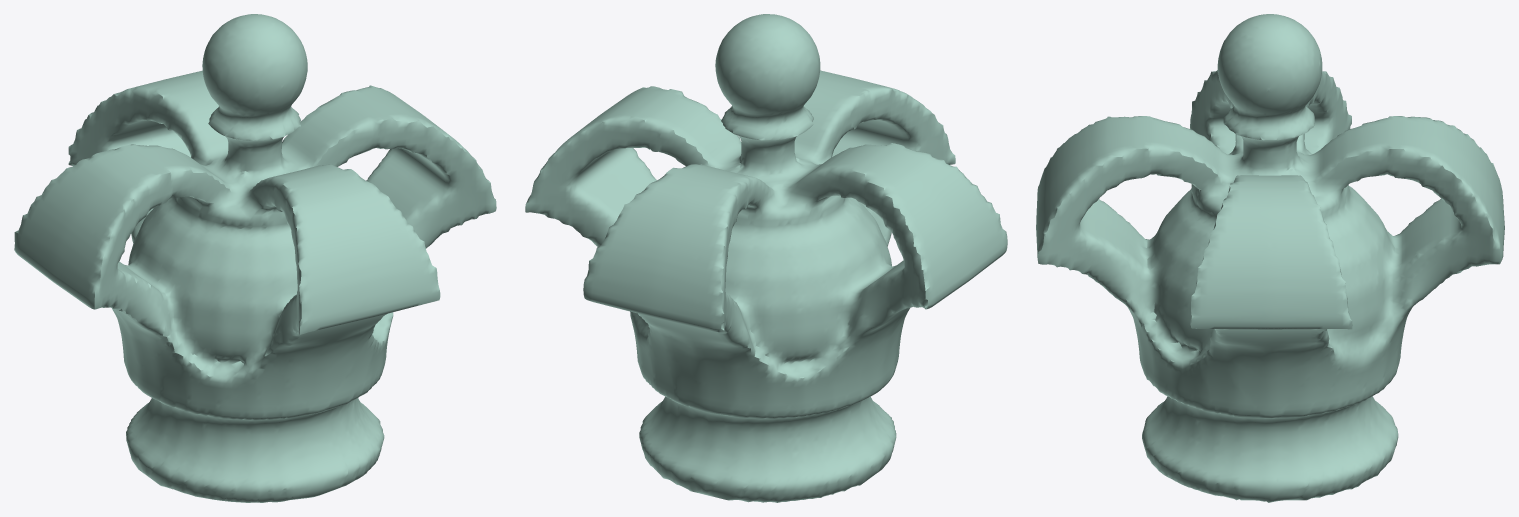
3 renders of one model, left to right at view 1: azimuth 30°, elevation 25°; view 2: azimuth 150°, elevation 25°; view 3: azimuth 270°, elevation 25°, orthographic.
Parts seen in each view (by area): view 1: Object_2; view 2: Object_2; view 3: Object_2.
Boxes of the visible parts, x1,y1,x2,y2 form: Object_2: (14,14,496,502); Object_2: (525,14,1007,502); Object_2: (1036,14,1504,502).
Size of the model in its own units: 0.9832 by 1 by 0.9832.
